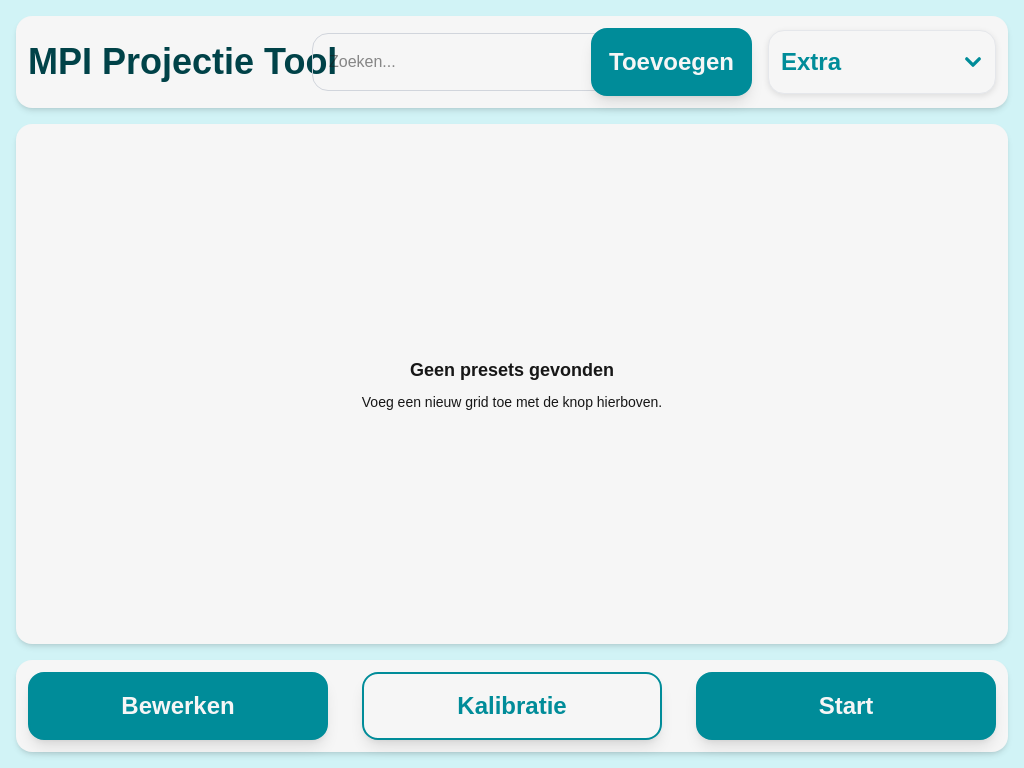
Test: Home Page Integration Tests › shows warning when starting without selecting a preset
Click the button "Start" at [846, 706], box [696, 672, 996, 740]
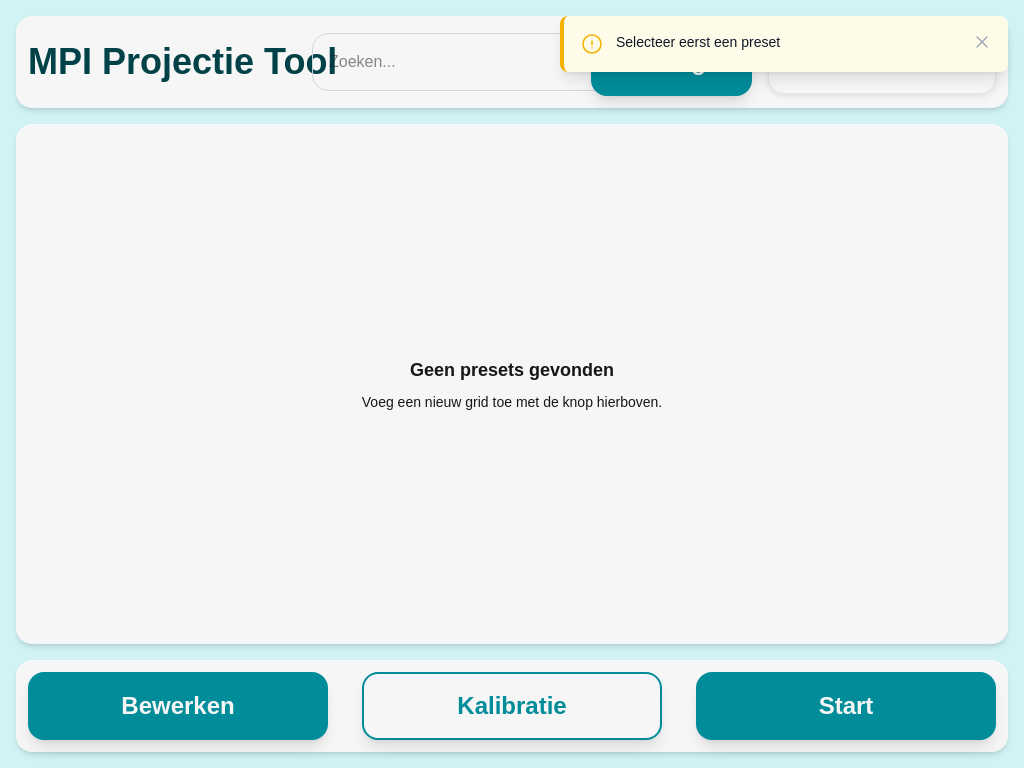
expect the text "Selecteer eerst een preset" is shown: met, box [616, 34, 780, 50]
